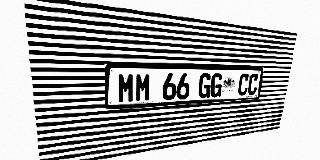6: (162, 73, 177, 100), (176, 73, 191, 100)
C: (237, 73, 249, 96), (247, 73, 259, 95)
G: (198, 73, 212, 98), (210, 73, 223, 98)
M: (117, 73, 134, 103), (135, 73, 151, 102)
